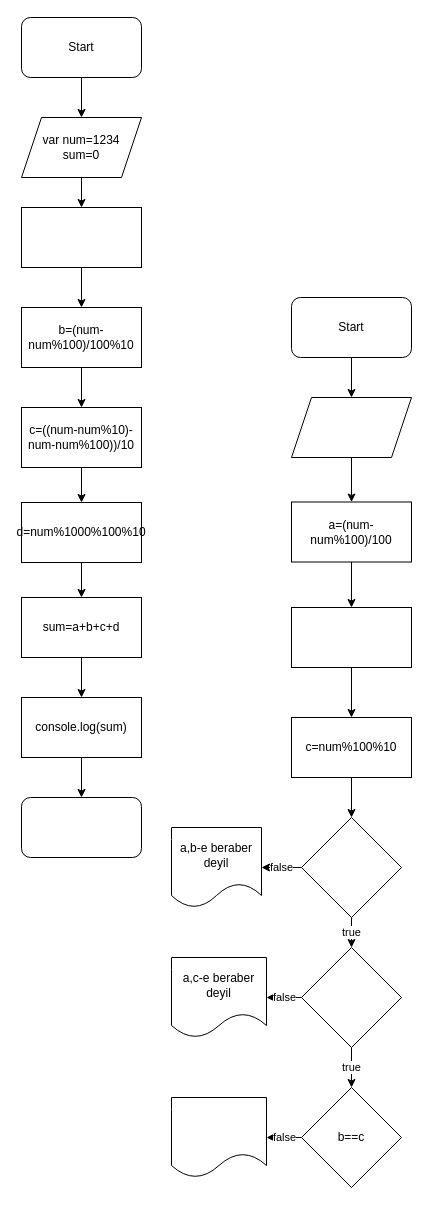
Some shapes in this 429 by 1205 pixel diagram are drawn without their labels. Here are the shapes that lost their labels. From the top down, the centre of each, then its label:
the point at 81,237: a=(num-num%1000)/1000
the point at 351,427: num=252
the point at 351,637: b=(num-num%10)/10%10
the point at 81,827: end
the point at 351,867: a==b
the point at 351,997: a==c
the point at 218,1137: b,c-e beraber deyil
